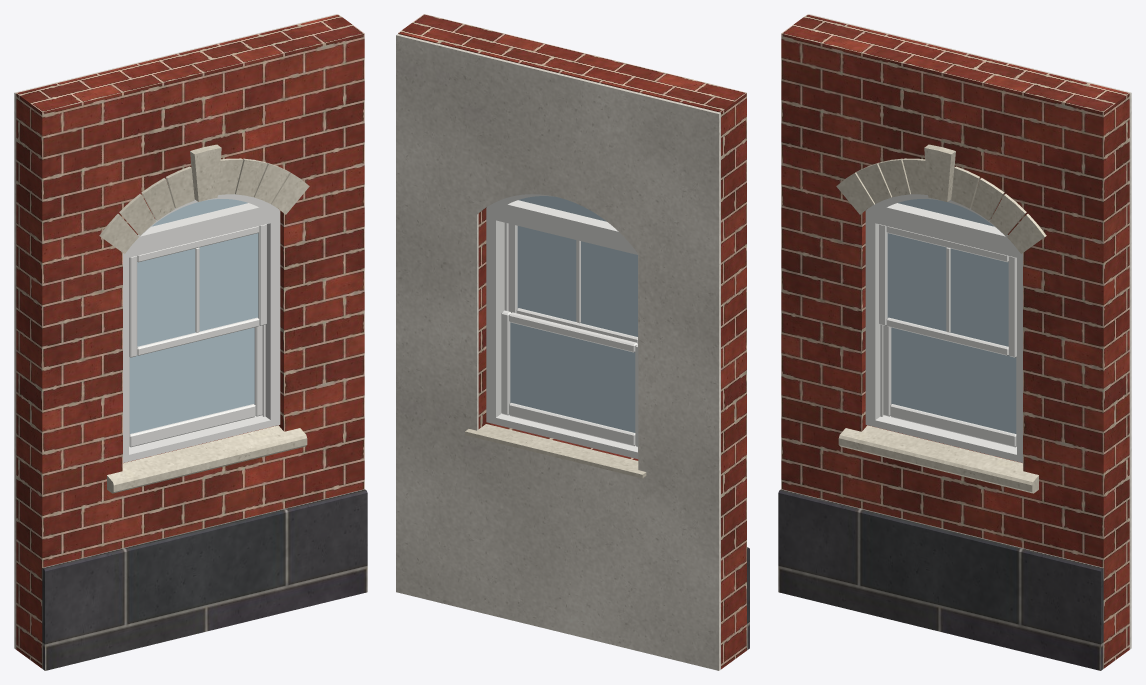
Rendered from s_g_window.glb.
3 renders of one model, left to right at view 1: azimuth 30°, elevation 25°; view 2: azimuth 150°, elevation 25°; view 3: azimuth 330°, elevation 25°, orthographic.
Visible parts, largest first — view 1: s_g_window_brick, s_g_window_plinth, s_g_window_glass, s_g_window_trim, s_g_window_frame, s_g_window_sash, s_g_window_plaster; view 2: s_g_window_plaster, s_g_window_brick, s_g_window_glass, s_g_window_frame, s_g_window_sash, s_g_window_trim; view 3: s_g_window_brick, s_g_window_plinth, s_g_window_glass, s_g_window_trim, s_g_window_frame, s_g_window_sash, s_g_window_plaster.
Part boxes in pixels (left/top/right/bottom): s_g_window_brick: left=16, top=14, right=364, bottom=668; s_g_window_plinth: left=42, top=489, right=367, bottom=670; s_g_window_glass: left=129, top=199, right=258, bottom=433; s_g_window_trim: left=99, top=144, right=309, bottom=493; s_g_window_frame: left=123, top=194, right=280, bottom=462; s_g_window_sash: left=129, top=224, right=266, bottom=447; s_g_window_plaster: left=14, top=14, right=337, bottom=649; s_g_window_plaster: left=396, top=34, right=720, bottom=670; s_g_window_brick: left=398, top=14, right=746, bottom=669; s_g_window_glass: left=510, top=196, right=637, bottom=432; s_g_window_frame: left=486, top=194, right=638, bottom=458; s_g_window_sash: left=501, top=223, right=637, bottom=446; s_g_window_trim: left=465, top=424, right=646, bottom=478; s_g_window_brick: left=781, top=14, right=1129, bottom=668; s_g_window_plinth: left=778, top=489, right=1103, bottom=670; s_g_window_glass: left=887, top=199, right=1016, bottom=433; s_g_window_trim: left=836, top=144, right=1046, bottom=493; s_g_window_frame: left=865, top=194, right=1022, bottom=462; s_g_window_sash: left=879, top=224, right=1016, bottom=447; s_g_window_plaster: left=808, top=14, right=1131, bottom=649.
Size of the model in its own units: 2 by 3.3 by 0.415.
7 materials, 4 textured.
